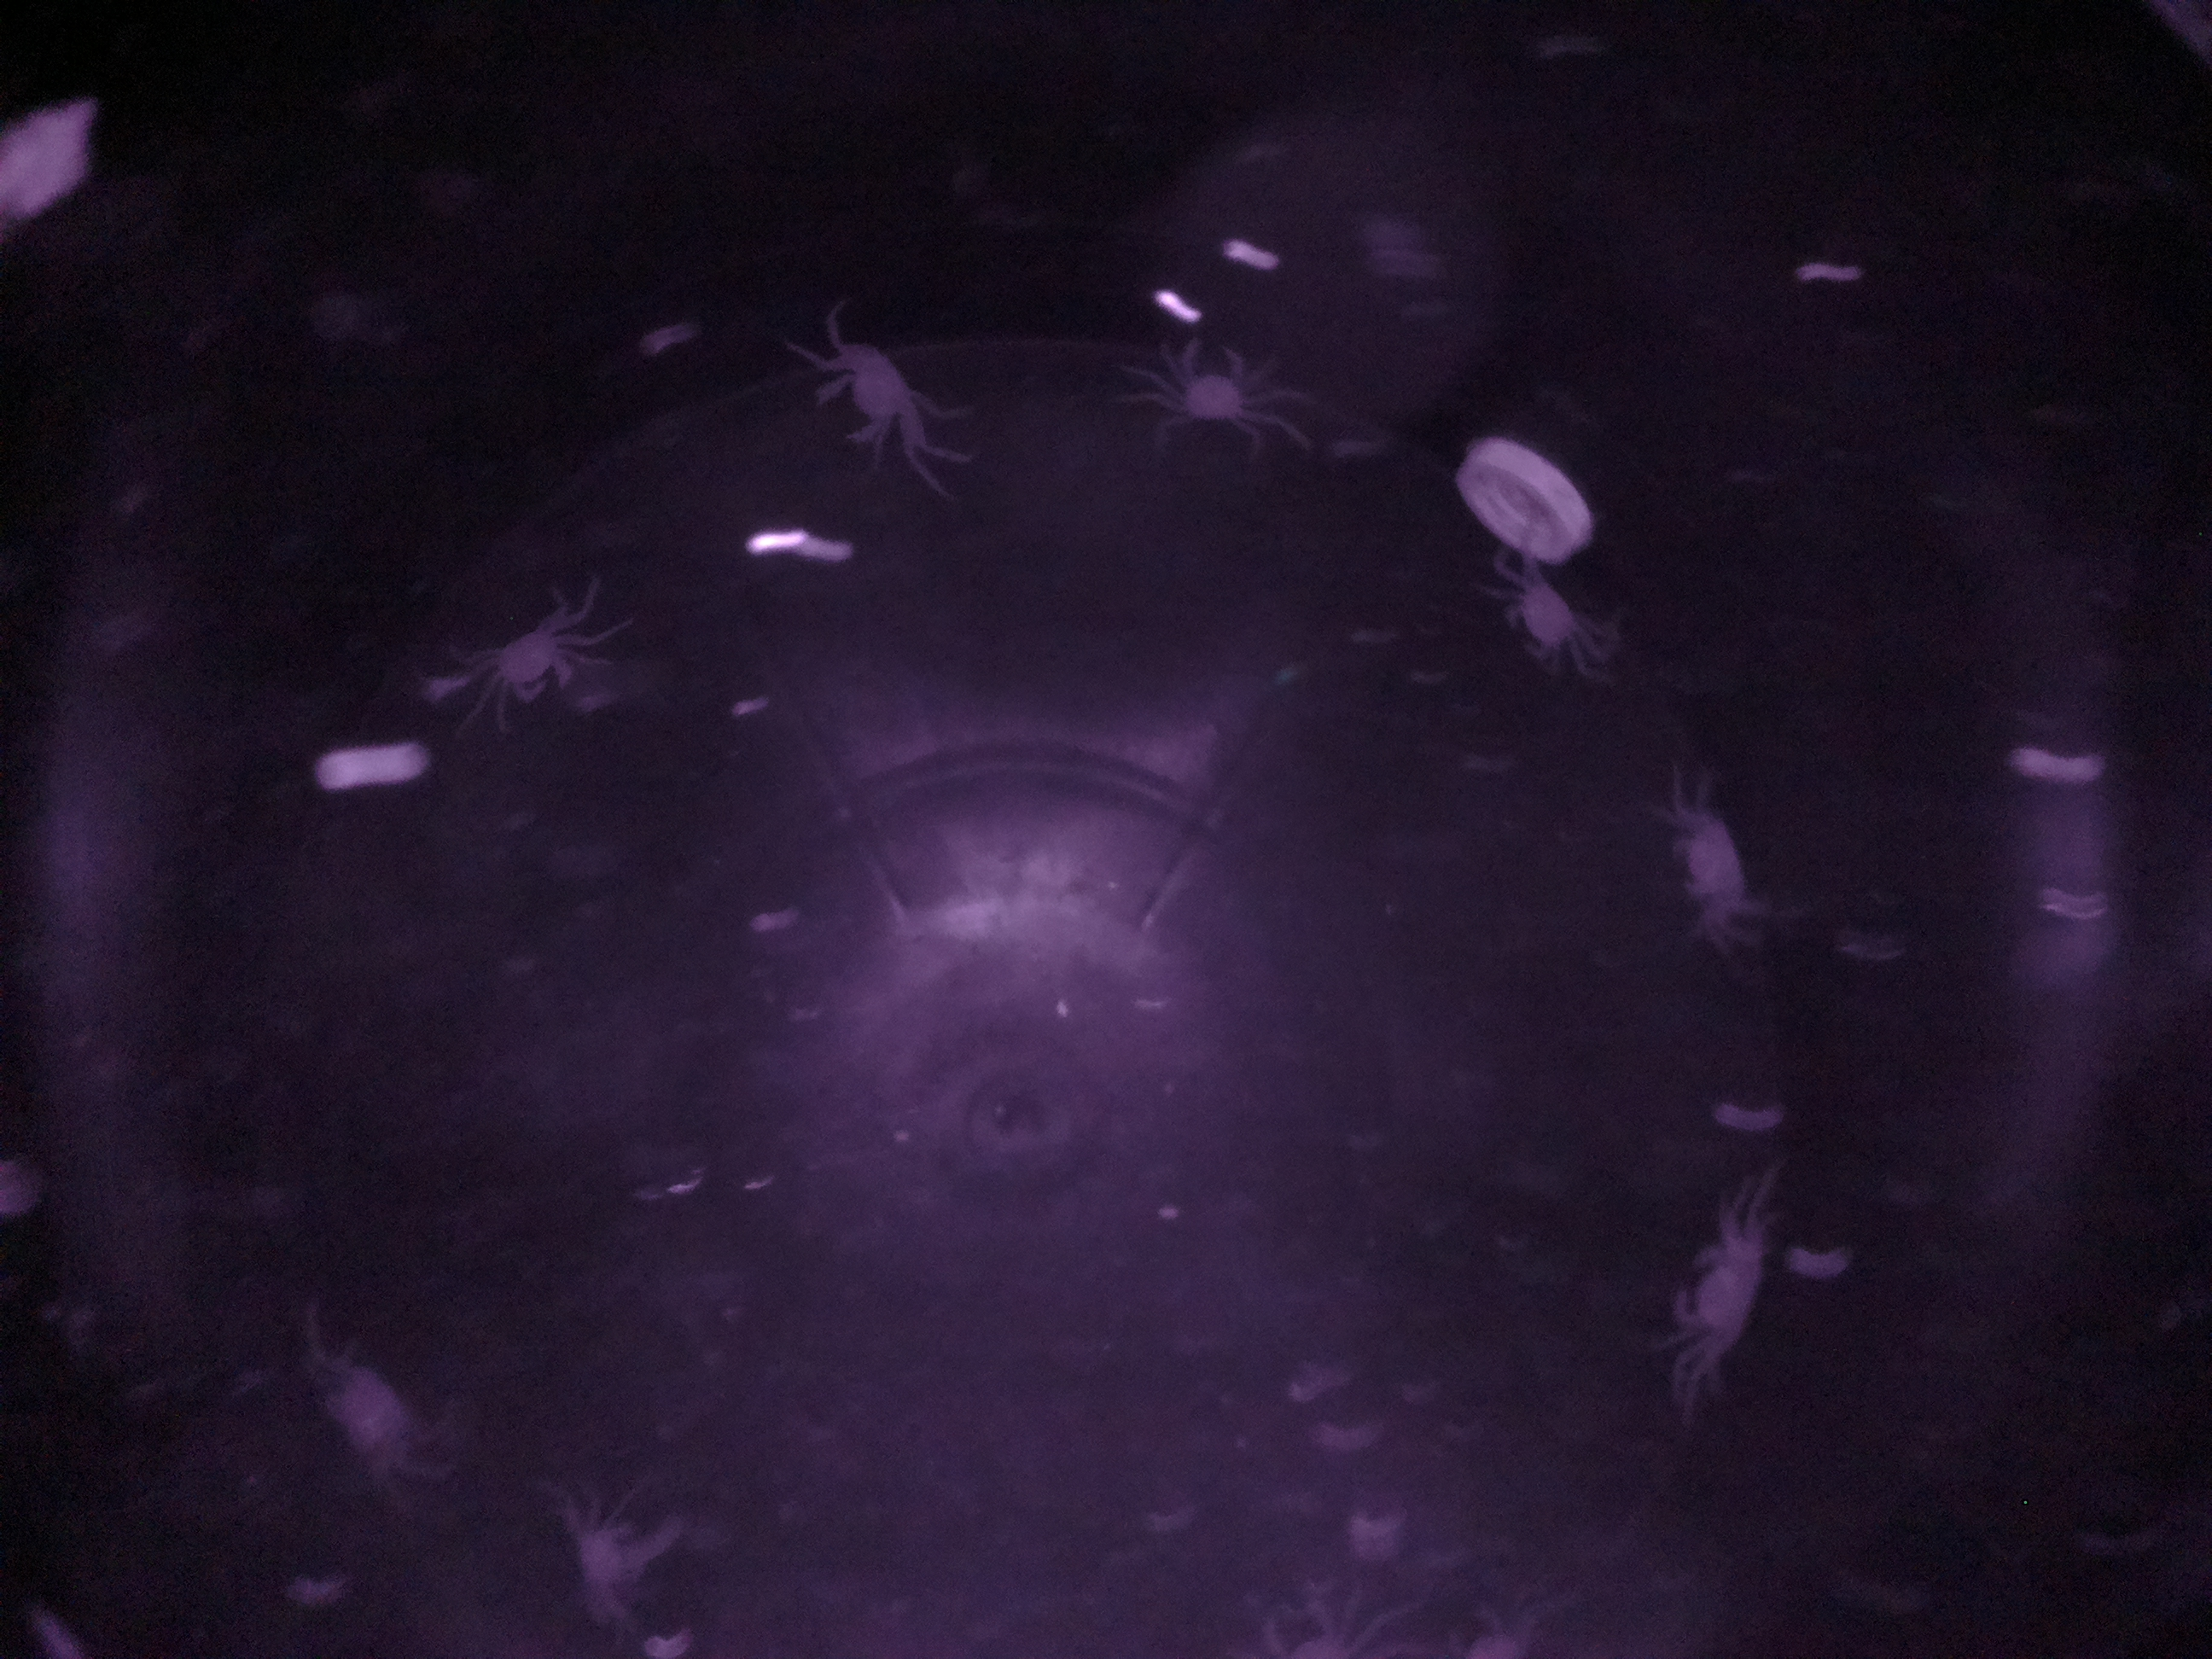Crab: (792, 338, 939, 464), (1642, 796, 1770, 925), (1153, 310, 1263, 457), (1660, 1227, 1773, 1364), (472, 615, 592, 728), (1489, 559, 1604, 676)
